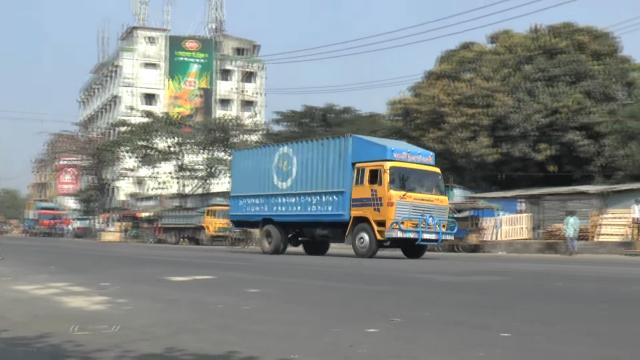truck: (223, 126, 459, 264), (156, 198, 233, 252), (23, 198, 66, 236)
